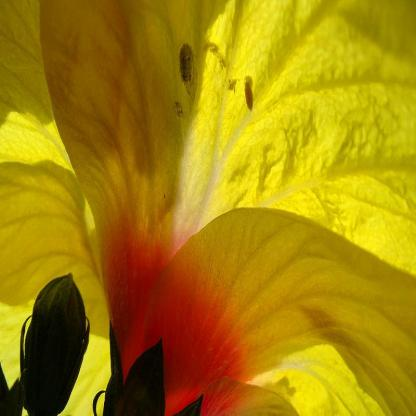aphid: (176, 35, 198, 90), (240, 75, 260, 113), (169, 96, 187, 121)
